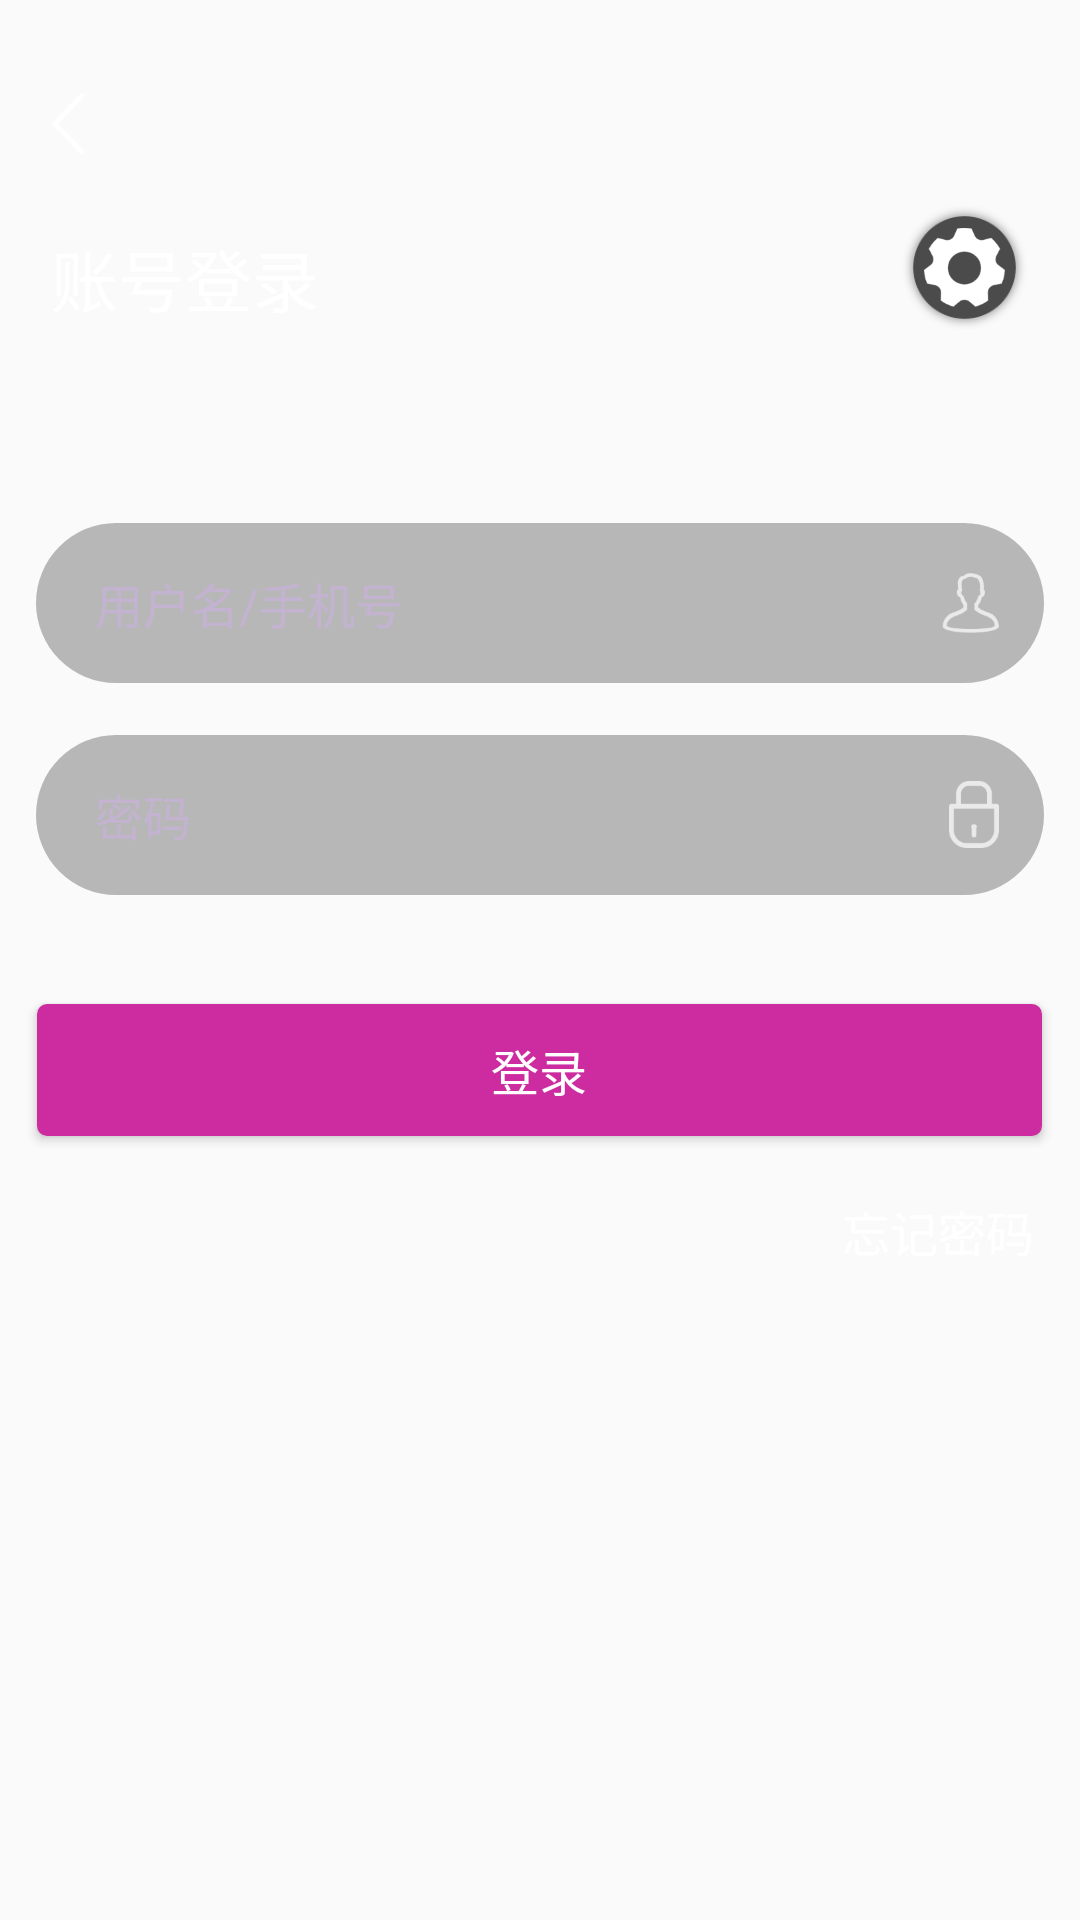

Icons on this 1080 × 1920 Android screen, each with its box as (x1, y1, x2, y2):
login password: (949, 781, 999, 848)
login people: (943, 573, 999, 633)
setting: (909, 212, 1020, 323)
